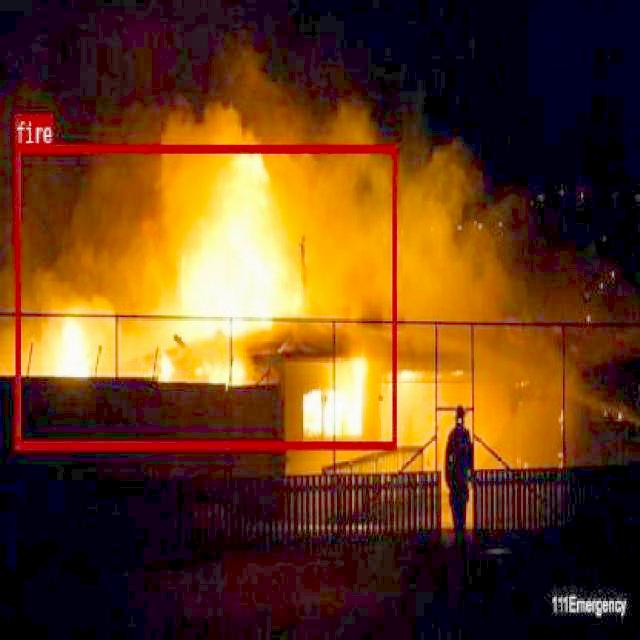fire: (14, 143, 397, 448)
